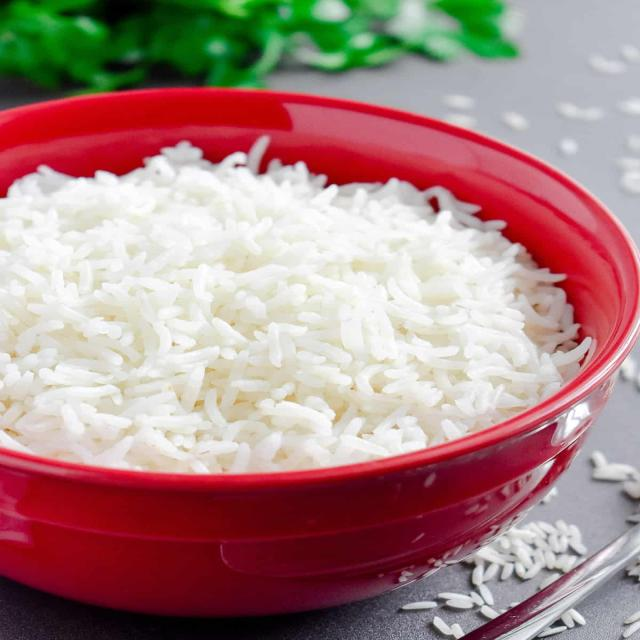Wet Waste: (0, 134, 598, 498)
